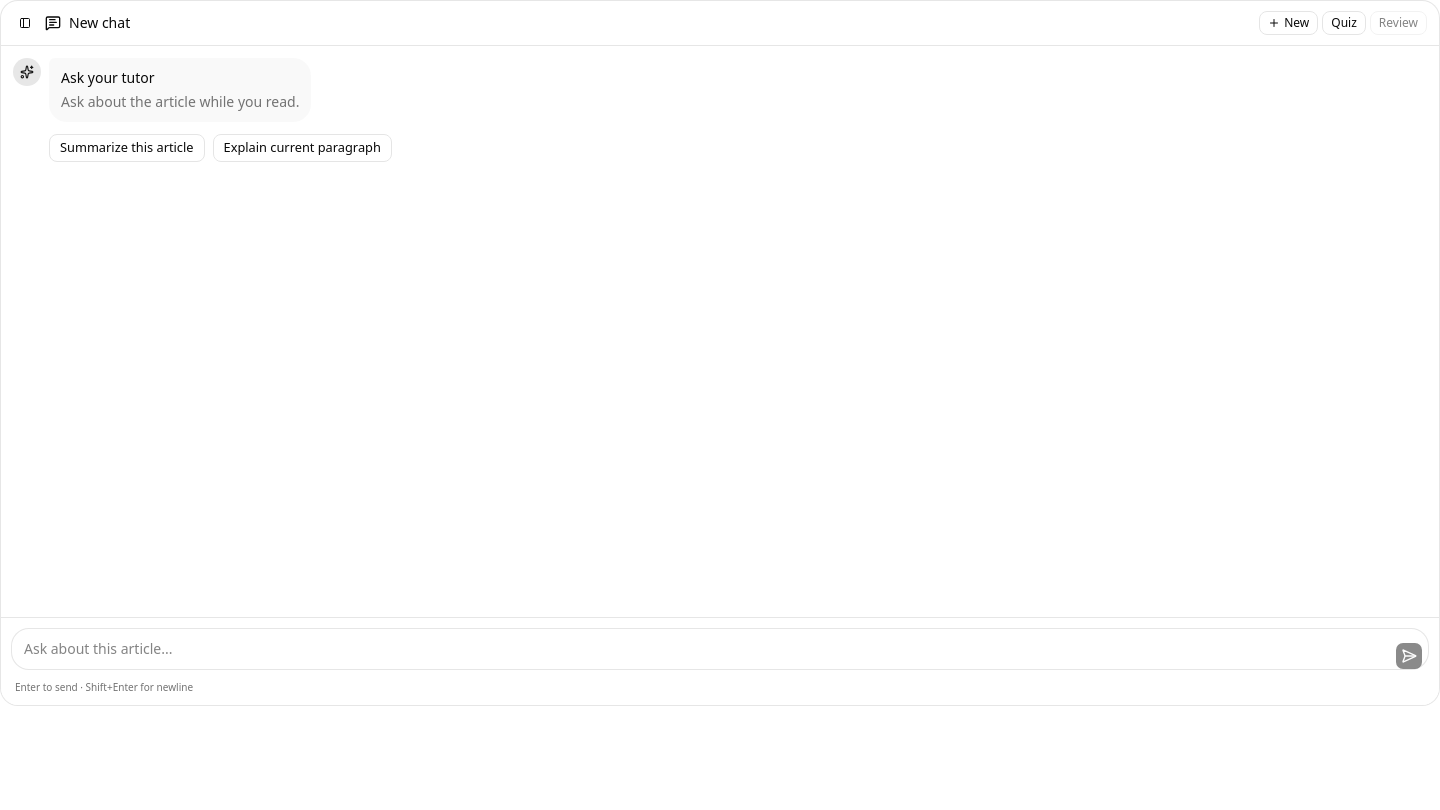
TutorPanel › shows a retryable error when send fails
The image size is (1440, 810).
In the text box with placeholder "Ask about this article...": (720, 649) [11,628,1429,670], type "解释这篇文章"
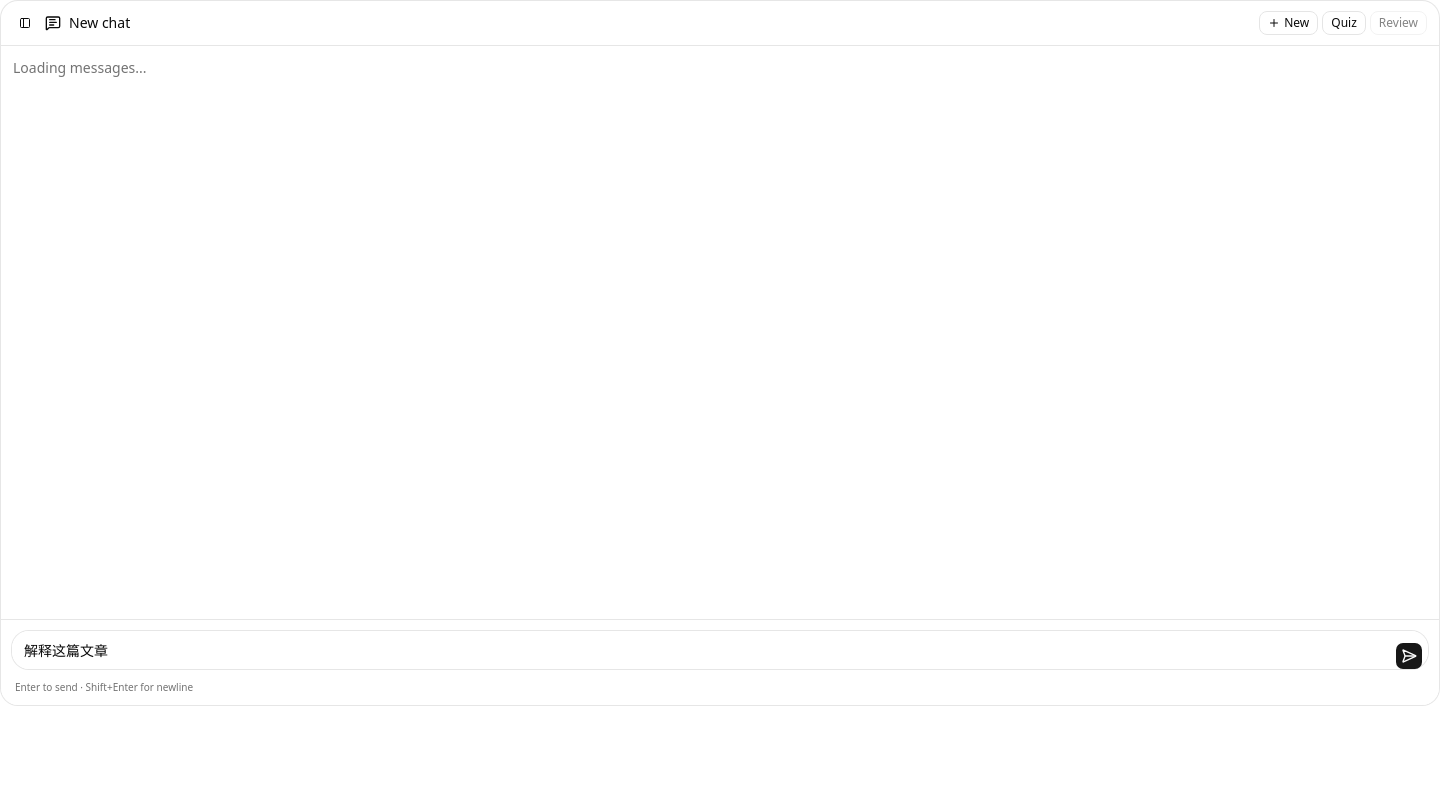
Click the button named "Send": (1409, 656) [1395,642,1423,670]
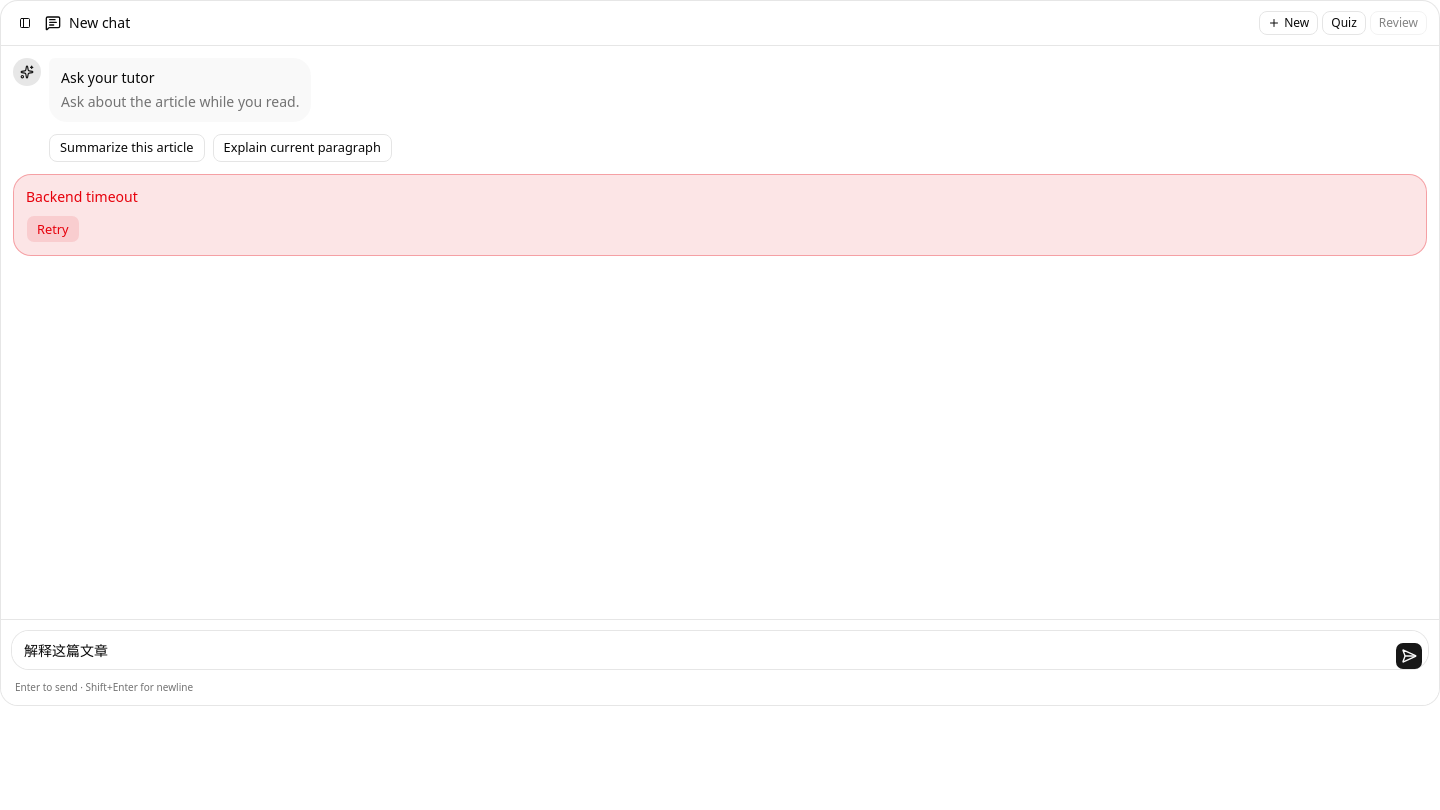
Expected: the text "Backend timeout" is shown, [26,187,138,206]
Expected: the button "Retry" is shown, [26,215,80,243]
